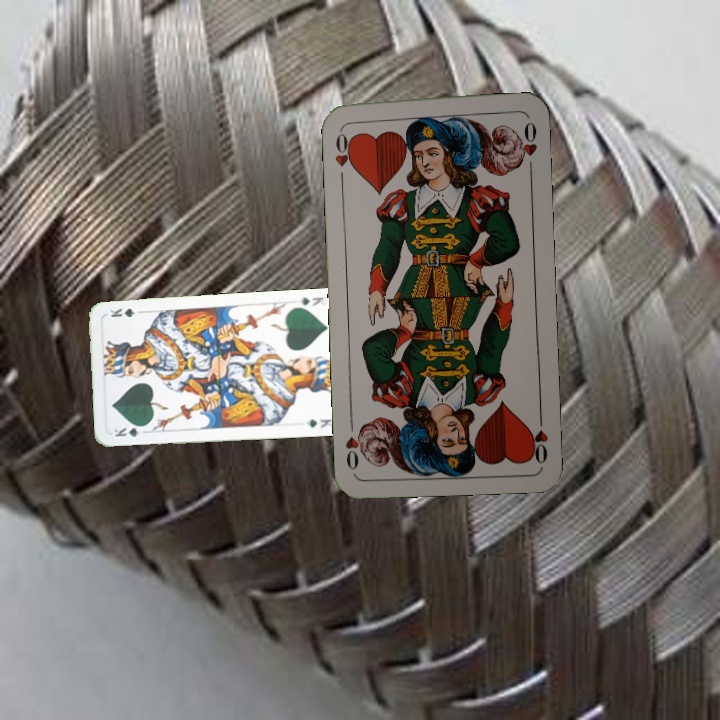GK: (110, 422, 149, 439), (294, 293, 326, 309)
HO: (330, 124, 357, 183), (525, 407, 551, 466)
